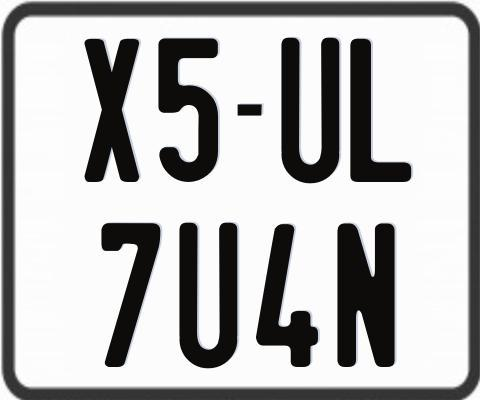4: (255, 221, 321, 365)
5: (155, 37, 216, 181)
7: (98, 222, 161, 367)
L: (348, 36, 411, 179)
N: (337, 221, 396, 370)
U: (281, 35, 341, 185), (176, 220, 236, 370)
X: (84, 36, 143, 185)
